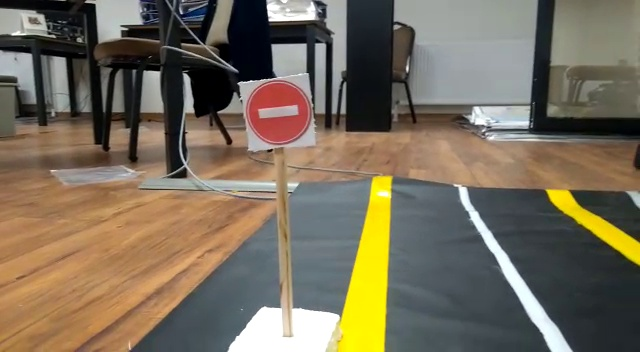girisi_olmayan_yol: (244, 78, 316, 146)
